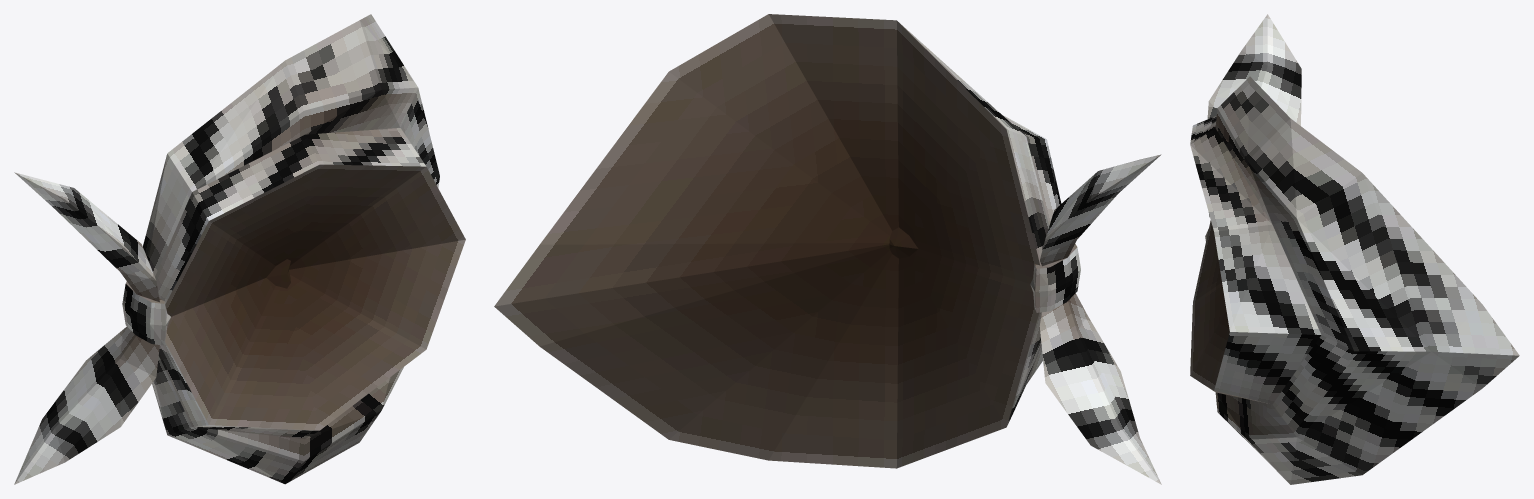
Rendered from options1035.obj.
The picture shows the model from 3 angles, left to right: view 1: azimuth 30°, elevation 25°; view 2: azimuth 150°, elevation 25°; view 3: azimuth 270°, elevation 25°; orthographic projection. The views are drawn at different scales.
Parts seen in each view (by area): view 1: options1035; view 2: options1035; view 3: options1035.
Boxes of the visible parts, x1,y1,x2,y2 form: options1035: (14,14,465,484); options1035: (494,14,1161,484); options1035: (1190,14,1519,484).
Size of the model in its own units: 0.4668 by 0.3888 by 0.3157.
2 materials, 2 textured.
